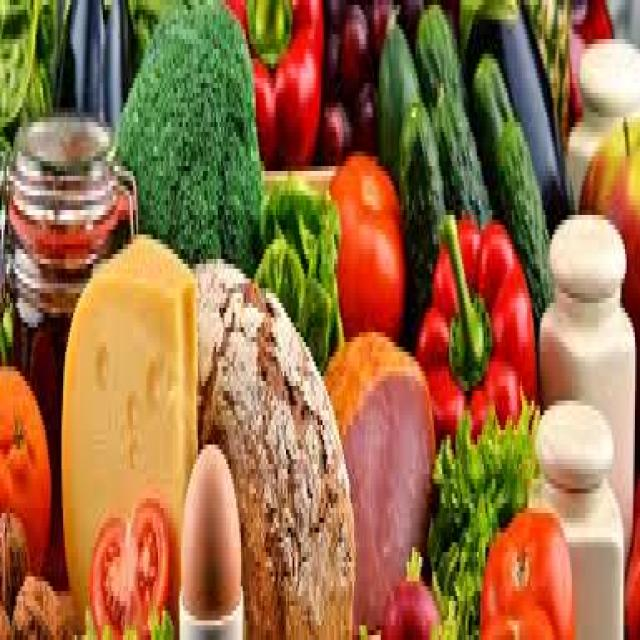biodegradable: (193, 249, 351, 635), (60, 225, 194, 635), (113, 0, 259, 269), (321, 323, 435, 635), (416, 191, 537, 440), (421, 386, 535, 635), (456, 0, 574, 225), (221, 0, 321, 161), (258, 176, 339, 371), (326, 146, 402, 347), (8, 283, 65, 523), (577, 103, 638, 327), (491, 103, 554, 313), (479, 503, 570, 635), (88, 494, 166, 635), (180, 440, 240, 621), (0, 357, 47, 586), (396, 93, 446, 303), (433, 68, 491, 215), (374, 15, 419, 166), (469, 39, 510, 191), (0, 0, 55, 107), (55, 0, 103, 117), (564, 0, 610, 122), (412, 0, 462, 98), (379, 572, 437, 635), (100, 0, 128, 122), (12, 572, 58, 635), (0, 508, 28, 610), (474, 601, 552, 635), (622, 474, 638, 635), (339, 0, 366, 83), (352, 73, 376, 147), (55, 586, 85, 635), (319, 98, 344, 156), (368, 0, 393, 49), (326, 24, 339, 93), (0, 596, 10, 635), (326, 0, 341, 20)
glass: (2, 108, 128, 572)
